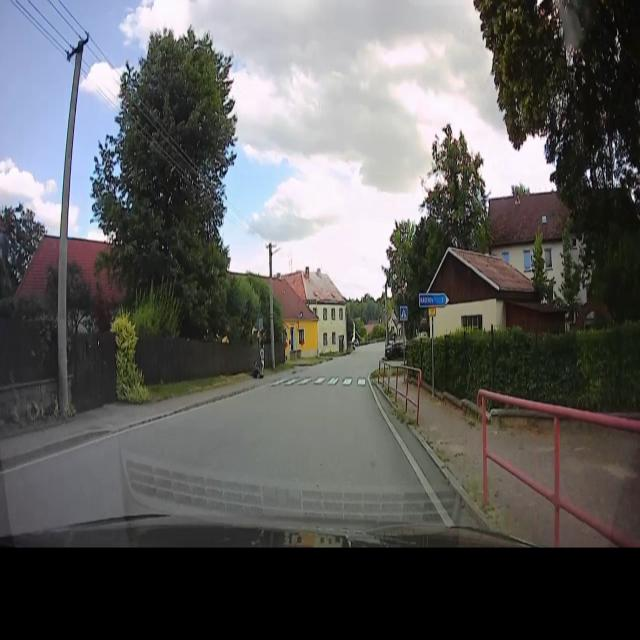Pedestrian crosswalk: (274, 372, 369, 388), (399, 305, 408, 322)
Person: (260, 341, 266, 379)
